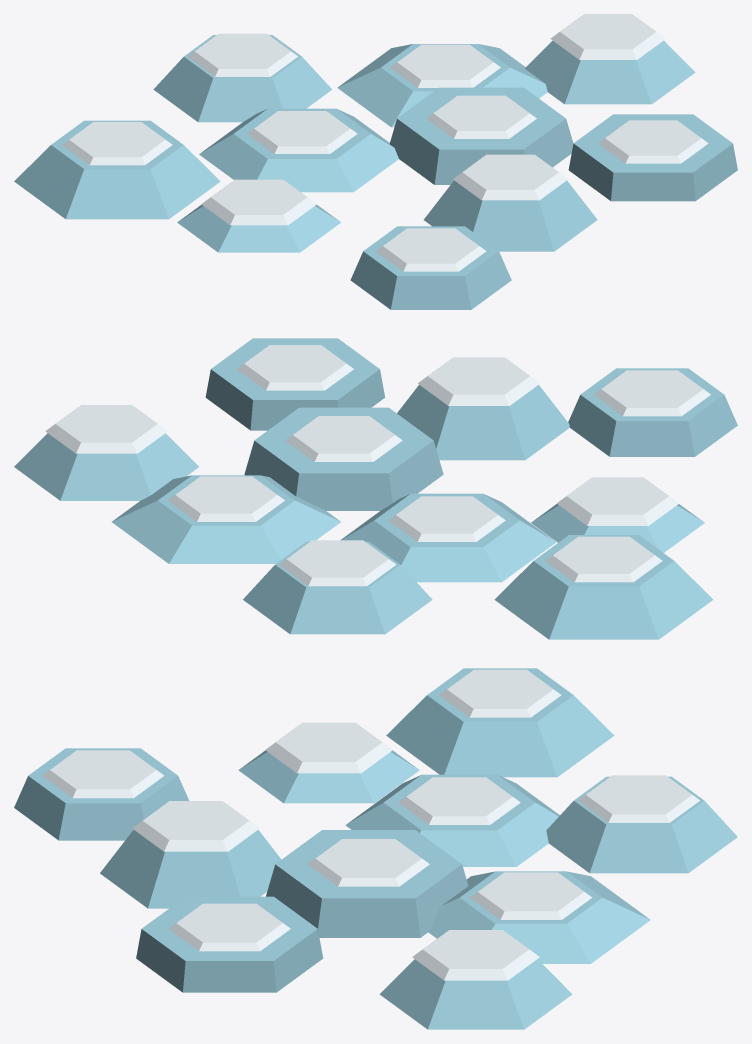
Rendered from FEATURE_ICE_v00.fbx.
3 renders of one model, top to bottom at view 1: azimuth 30°, elevation 25°; view 2: azimuth 150°, elevation 25°; view 3: azimuth 270°, elevation 25°, orthographic. The views are drawn at different scales.
Visible parts, largest first — view 1: Ice_floe.009, Ice_floe, Ice_floe.005, Ice_floe.001, Ice_floe.002, Ice_floe.006, Ice_floe.007, Ice_floe.008, Ice_floe.003, Ice_floe.004, Snow_cap.002, Snow_cap.004 (+8 smaller); view 2: Ice_floe.009, Ice_floe, Ice_floe.003, Ice_floe.001, Ice_floe.006, Ice_floe.002, Ice_floe.007, Ice_floe.005, Ice_floe.008, Snow_cap.008, Snow_cap.002, Snow_cap.004 (+8 smaller); view 3: Ice_floe.009, Ice_floe, Ice_floe.005, Ice_floe.006, Ice_floe.003, Ice_floe.002, Ice_floe.008, Ice_floe.001, Ice_floe.007, Ice_floe.004, Snow_cap.004, Snow_cap.008 (+8 smaller).
Part boxes in pixels (x1,y1,x2,y2): Ice_floe.009: (14,120,220,219); Ice_floe: (389,87,573,184); Ice_floe.005: (568,114,737,201); Ice_floe.001: (199,108,398,192); Ice_floe.002: (424,180,597,251); Ice_floe.006: (153,35,331,122); Ice_floe.007: (350,226,511,309); Ice_floe.008: (525,40,695,104); Ice_floe.003: (337,44,547,127); Ice_floe.004: (177,204,340,252); Snow_cap.002: (453,154,568,200); Snow_cap.004: (201,179,316,225); Ice_floe.009: (494,535,713,639); Ice_floe: (244,407,443,510); Ice_floe.003: (112,475,340,563); Ice_floe.001: (340,493,556,582); Ice_floe.006: (243,541,432,634); Ice_floe.002: (397,385,569,460); Ice_floe.007: (568,368,737,456); Ice_floe.005: (205,338,385,430); Ice_floe.008: (14,433,198,500); Snow_cap.008: (45,405,167,453); Snow_cap.002: (418,357,539,405); Snow_cap.004: (557,477,678,525); Ice_floe.009: (386,668,614,777); Ice_floe: (266,830,468,937); Ice_floe.005: (136,896,323,992); Ice_floe.006: (546,776,737,873); Ice_floe.003: (428,871,650,963); Ice_floe.002: (100,829,281,908); Ice_floe.008: (379,959,572,1029); Ice_floe.001: (345,774,559,866); Ice_floe.007: (14,748,189,840); Ice_floe.004: (238,750,419,803); Snow_cap.004: (265,722,392,773); Snow_cap.008: (412,930,539,980).
Size of the model in its own units: 149 by 10.91 by 136.
